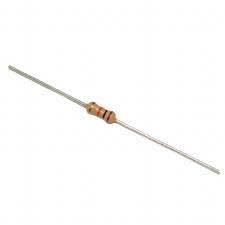resistor: (75, 89, 123, 134)
